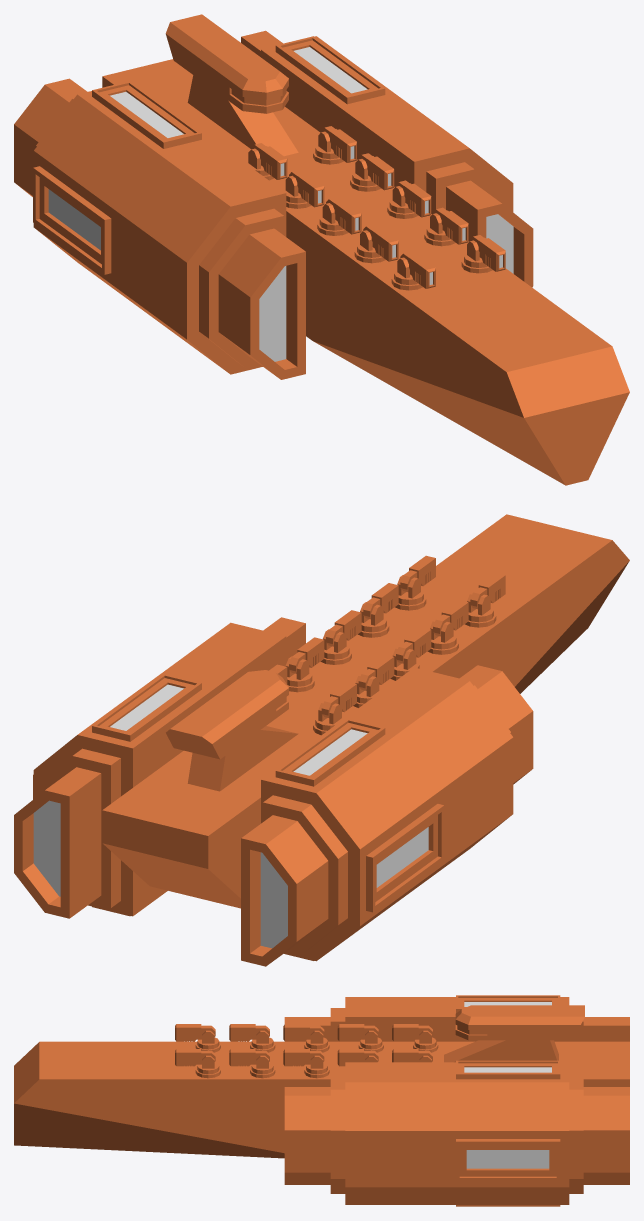
The model's file is Corvette Spaceship.fbx.
3 views of the same model, one above another, from view 1: azimuth 30°, elevation 25°; view 2: azimuth 150°, elevation 25°; view 3: azimuth 270°, elevation 25° (orthographic). The views are drawn at different scales.
Visible parts, largest first — view 1: Corvette Spaceship; view 2: Corvette Spaceship; view 3: Corvette Spaceship.
Part boxes in pixels (x1,y1,x2,y2): Corvette Spaceship: (14, 14, 629, 485); Corvette Spaceship: (14, 514, 629, 966); Corvette Spaceship: (14, 995, 629, 1206).
Bounding box in the file's own units: 0.465 × 0.2794 × 1.
